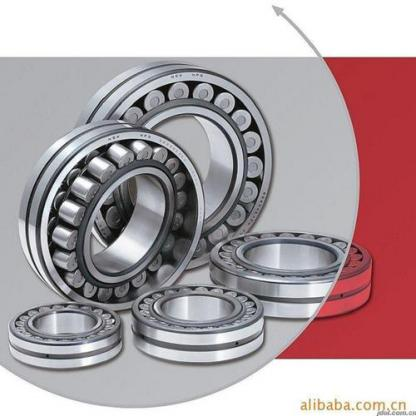FOD: (70, 59, 274, 276), (206, 225, 376, 323), (127, 281, 267, 367), (8, 299, 123, 372)
